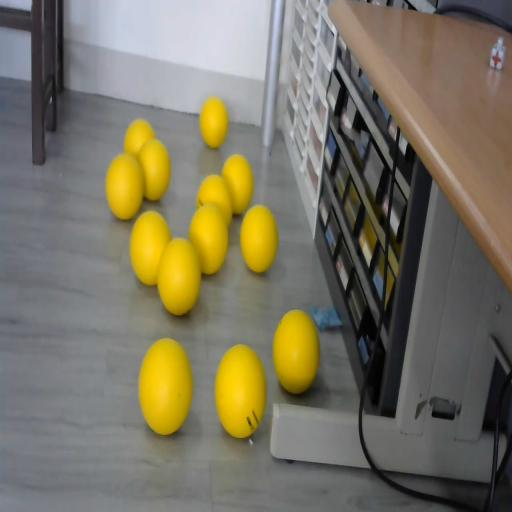FUEL: (138, 336, 193, 434), (214, 342, 266, 437), (272, 309, 319, 395), (129, 210, 171, 285), (188, 202, 229, 274), (106, 152, 144, 220), (240, 204, 278, 272), (138, 137, 171, 201), (221, 154, 254, 215), (200, 96, 228, 148)
